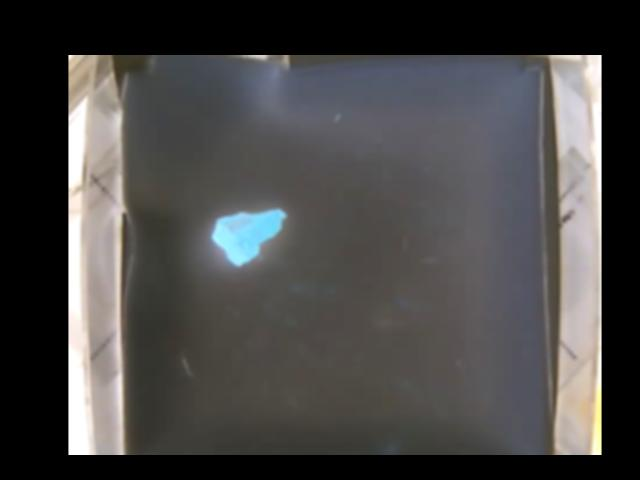Brisk: (212, 205, 285, 264)
